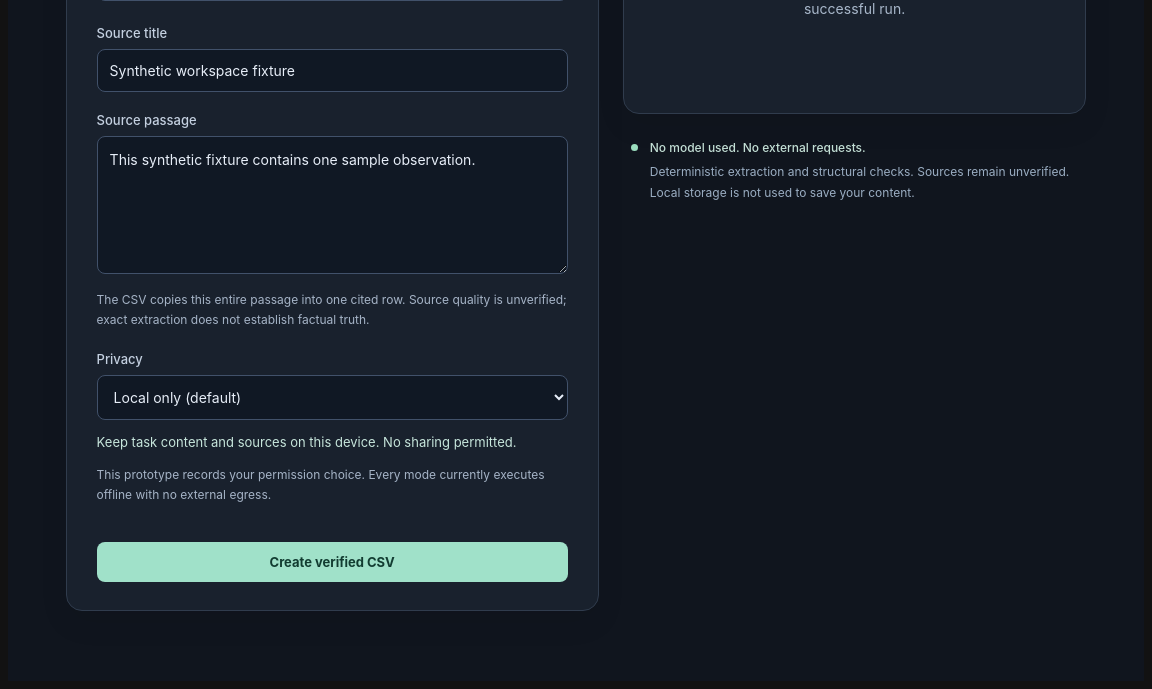
Workspace › shows backend errors without claiming an artifact was created
(page scrolled)
Click the button "Create verified CSV" at coordinates (332, 562), box [97,542,568,582]
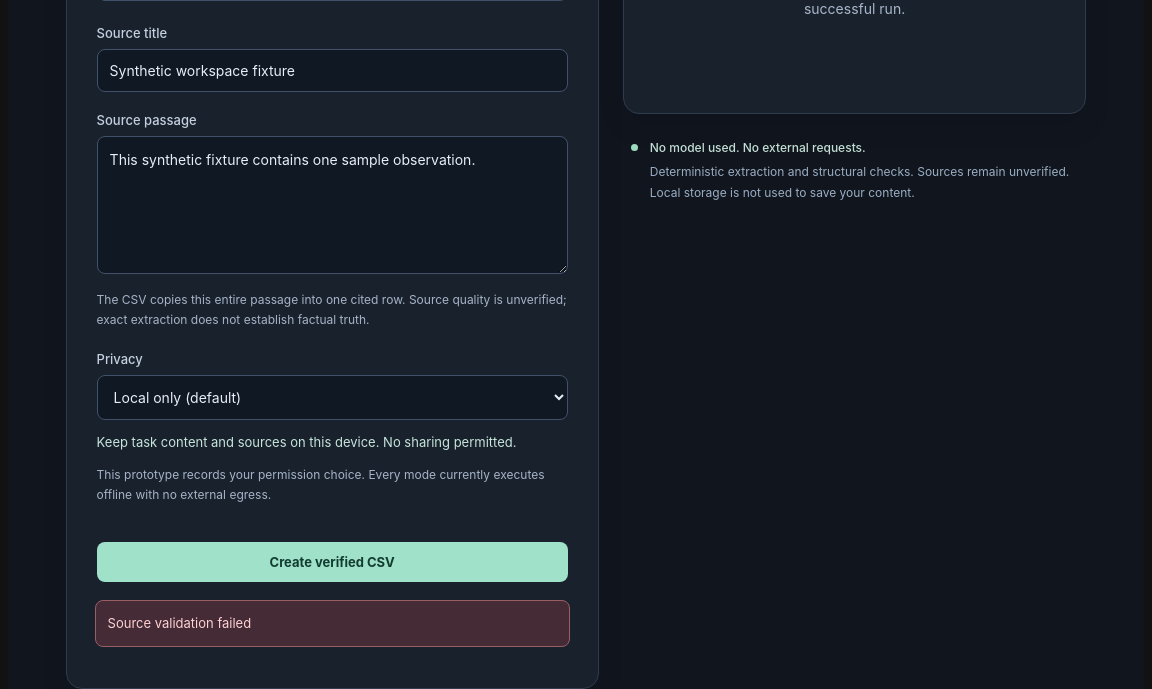
Expected: the message reads "Source validation failed", [108,615,251,631]
